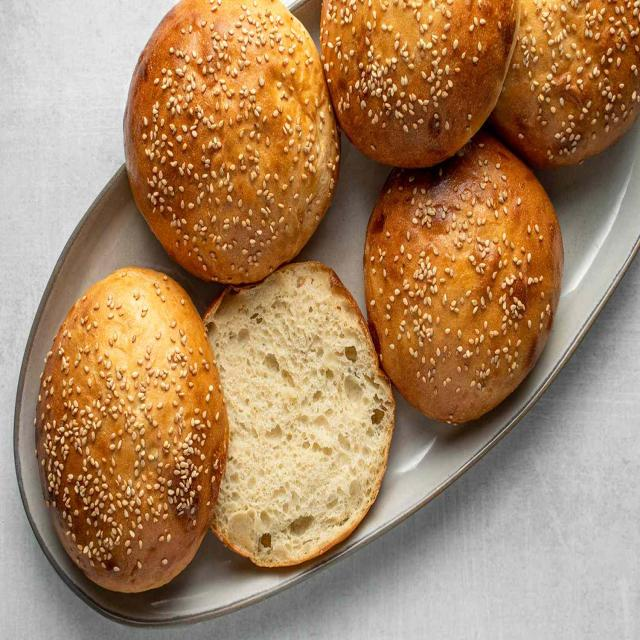Bun: (120, 0, 342, 291), (38, 269, 232, 597), (358, 138, 568, 434), (316, 0, 524, 171), (499, 0, 640, 166)
